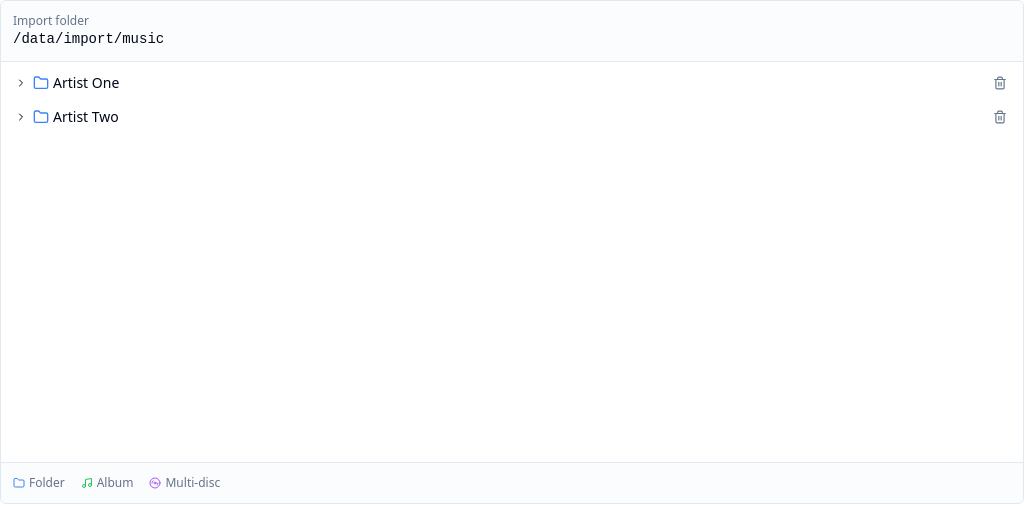
Test: ImportFolderTree › Expand/collapse functionality › should collapse folder when chevron is clicked on expanded folder
// Expand "Artist One"
Click the 1st button named "expand" at coordinates (21, 83), box x1=13 y1=75 x2=29 y2=91
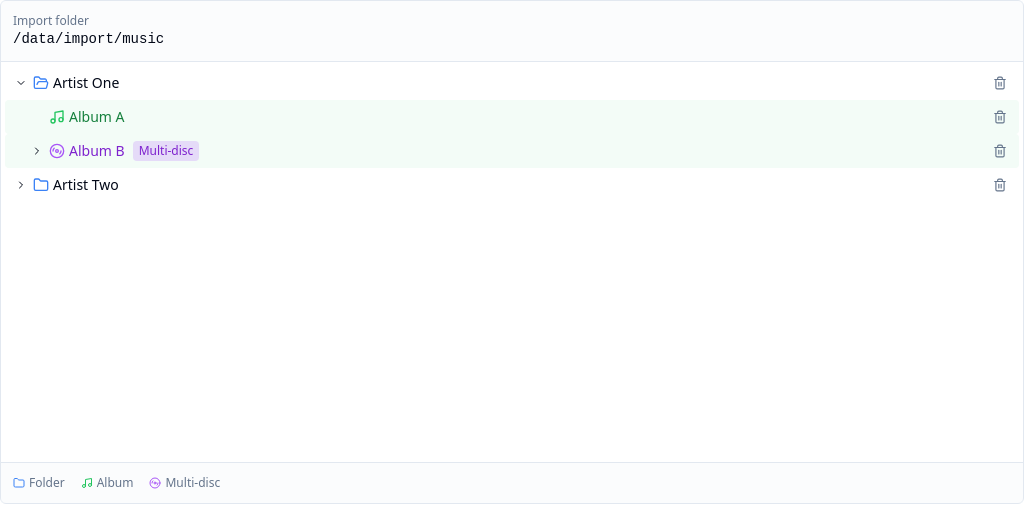
Check: the button "Album A" is shown, box x1=69 y1=107 x2=124 y2=127
// Collapse "Artist One"
Click the button named "collapse" at coordinates (21, 83), box x1=13 y1=75 x2=29 y2=91
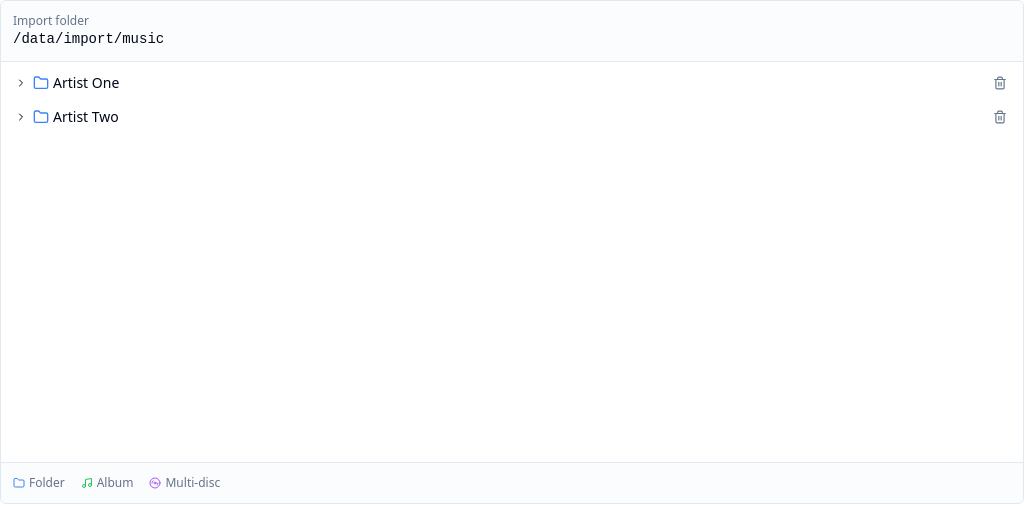
Check: the button "Album A" is gone
